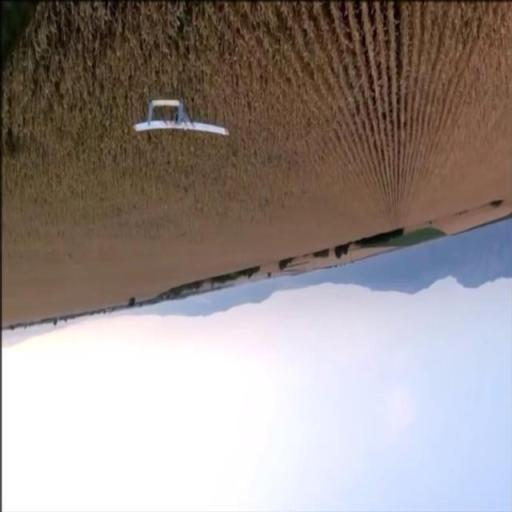uav: (132, 95, 229, 141)
